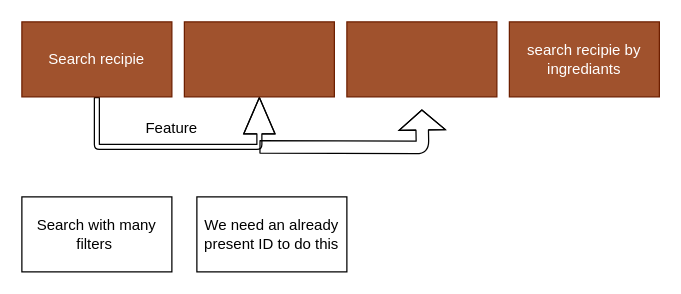
The diagram is 681 pixels wide and 294 high, and some of its shapes have lost their labels. The box of each missing label's shape, as (x1, y1, x2, y2) in pixels:
get recipie info: (183, 21, 334, 97)
similar recipie: (346, 21, 497, 97)
